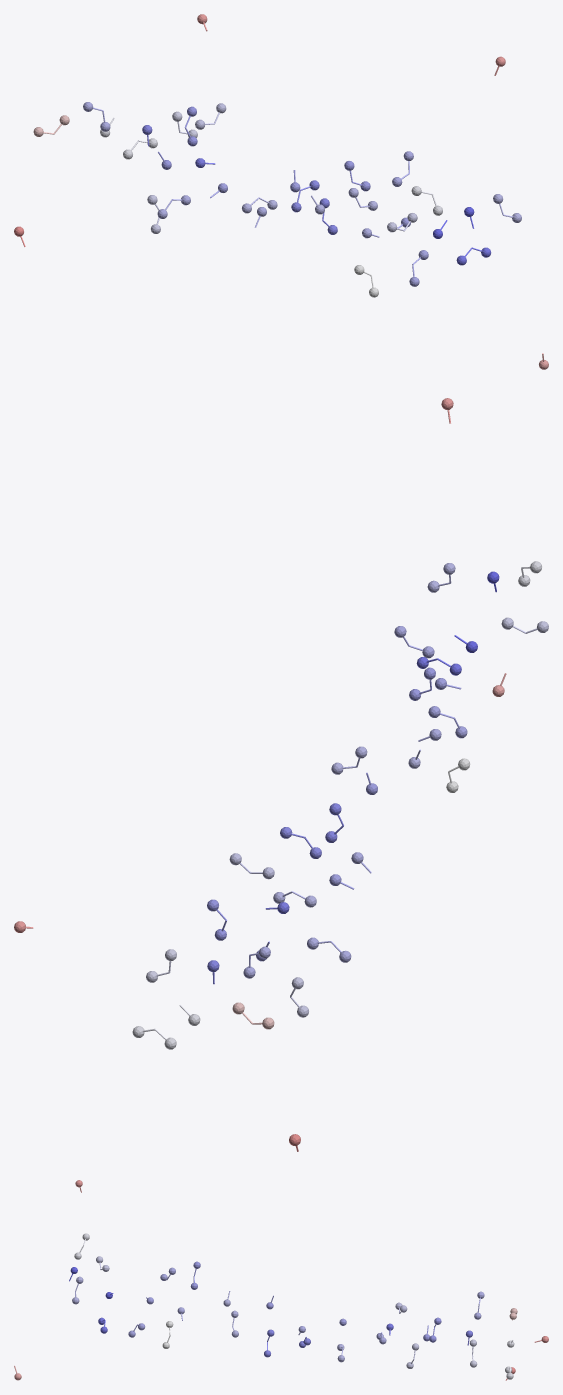
File: 1bna__ball_and_stick__b-factor__H.glb
3 renders of one model, top to bottom at view 1: azimuth 30°, elevation 25°; view 2: azimuth 150°, elevation 25°; view 3: azimuth 270°, elevation 25°, orthographic. The views are drawn at different scales.
Visible parts, largest first — view 1: Renderer Node; view 2: Renderer Node; view 3: Renderer Node.
Part boxes in pixels (x1,y1,x2,y2): Renderer Node: (14, 14, 548, 369); Renderer Node: (14, 398, 548, 1151); Renderer Node: (14, 1180, 548, 1380).
Size of the model in its own units: 14.43 by 23.53 by 43.7.
